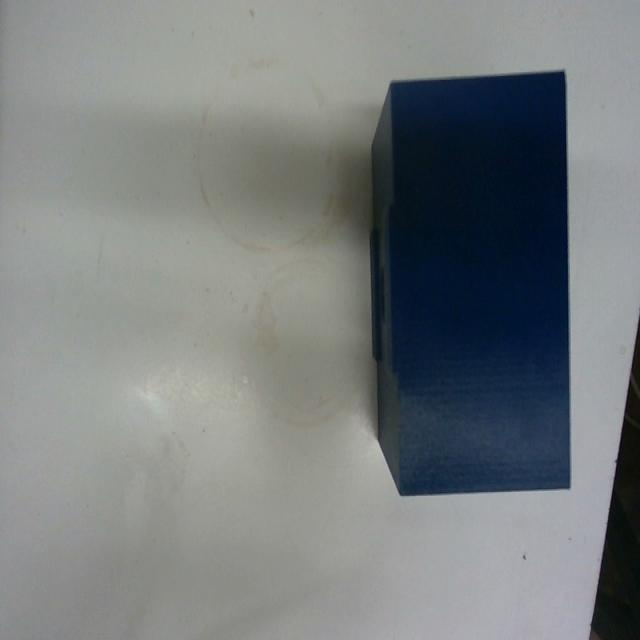Blue Cuboid: (367, 67, 572, 497)
